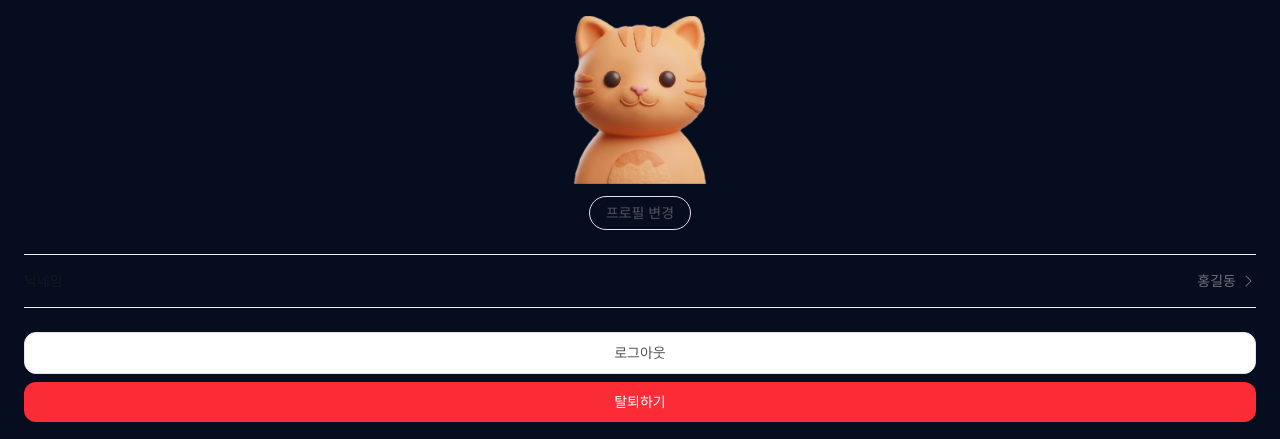
Test: ProfileSettingsView › '닉네임' 행 클릭 시 프로필 변경/로그아웃/탈퇴하기 버튼이 사라지고 닉네임 입력 영역이 표시된다
Click the button "닉네임 홍길동". click: (43, 281)
box: x1=24 y1=254 x2=1256 y2=308
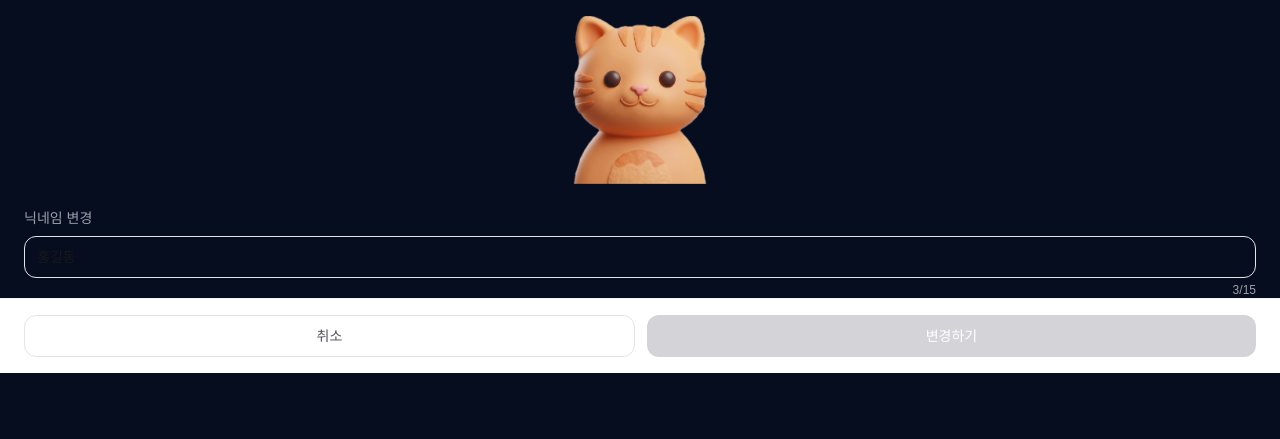
Expected: the button "프로필 변경" is gone
Expected: the button "로그아웃" is gone
Expected: the button "탈퇴하기" is gone
